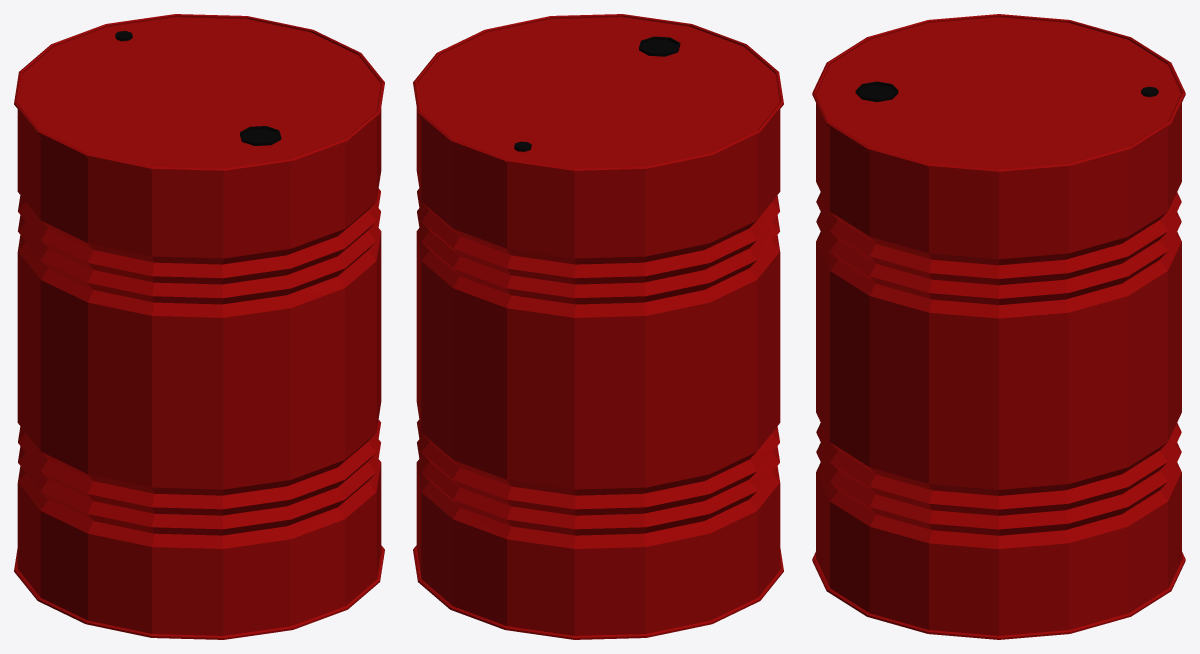
3 renders of one model, left to right at view 1: azimuth 30°, elevation 25°; view 2: azimuth 150°, elevation 25°; view 3: azimuth 270°, elevation 25°, orthographic.
Parts seen in each view (by area): view 1: Cylinder001; view 2: Cylinder001; view 3: Cylinder001.
Part boxes in pixels (box(x1,y1,x2,y2)): Cylinder001: box(14, 14, 384, 639); Cylinder001: box(413, 14, 783, 639); Cylinder001: box(812, 14, 1185, 639).
Bounding box in the file's own units: 61.19 × 85.37 × 61.24.
